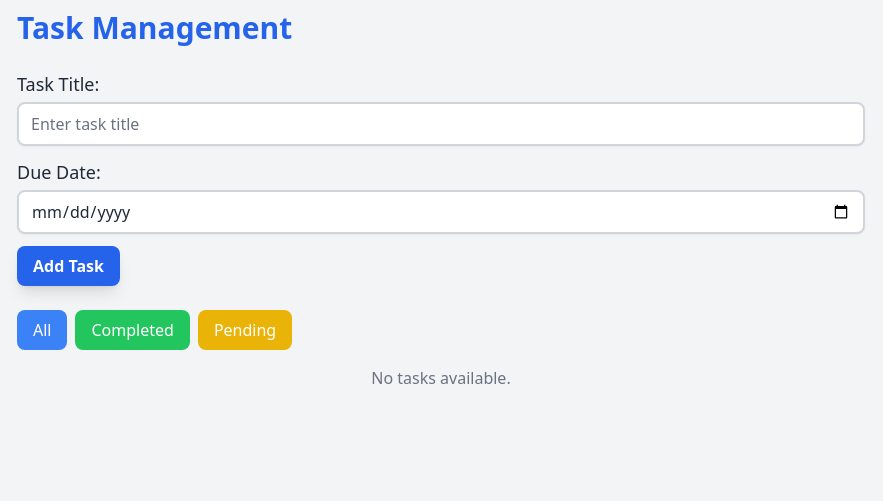
Scenario: HomePage Integration Tests › adds a task and updates the task list state
Step 1. Type "New Task" into the field with placeholder "Enter task title" → (441, 124), box [17, 102, 865, 146]
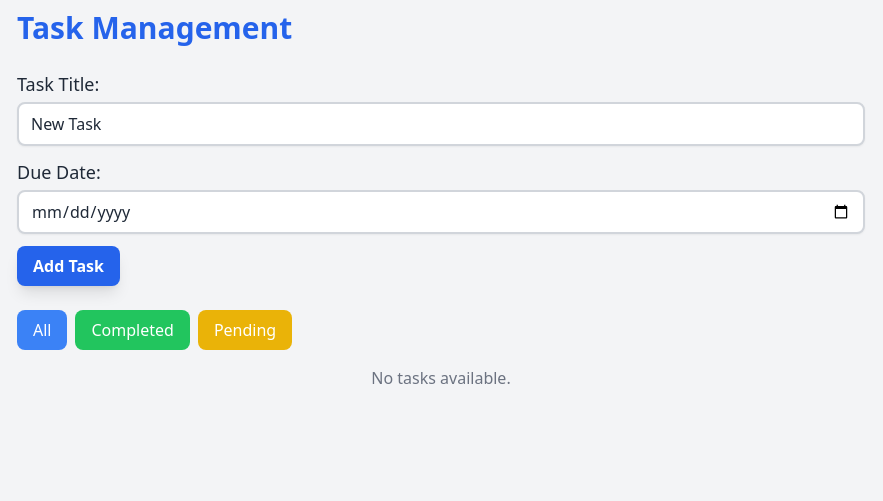
Step 2. Type "2024-09-12" into the date field labelled "Due Date:" → (441, 212), box [17, 190, 865, 234]
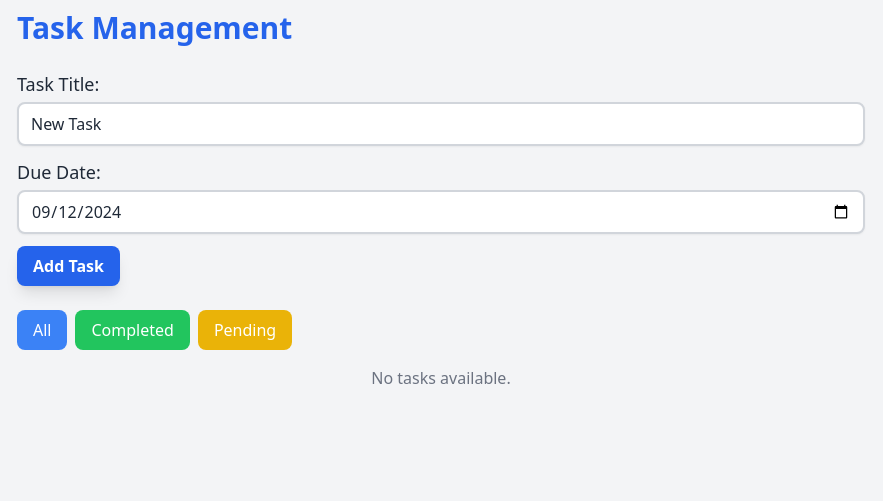
Step 3. Click the button "Add Task" → (68, 266), box [17, 246, 120, 286]
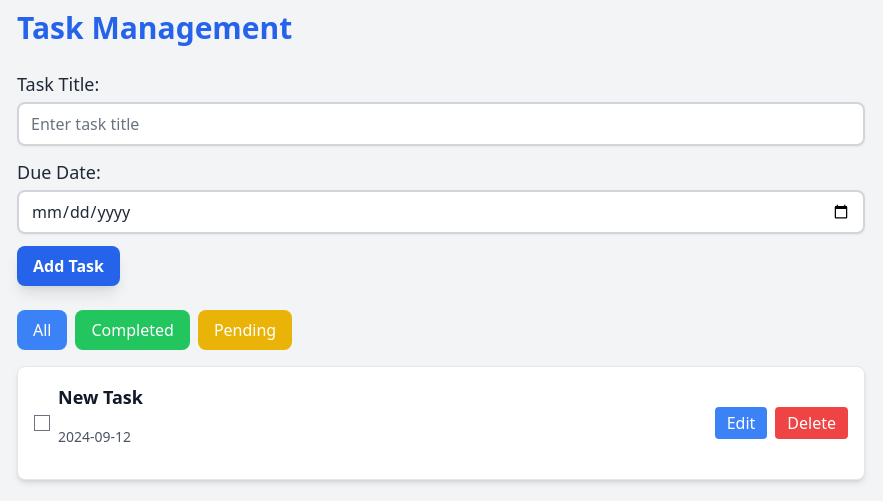
Result: the text "New Task" is shown at [58, 383, 143, 411]
Result: the text "2024-09-12" is shown at [58, 427, 143, 447]
